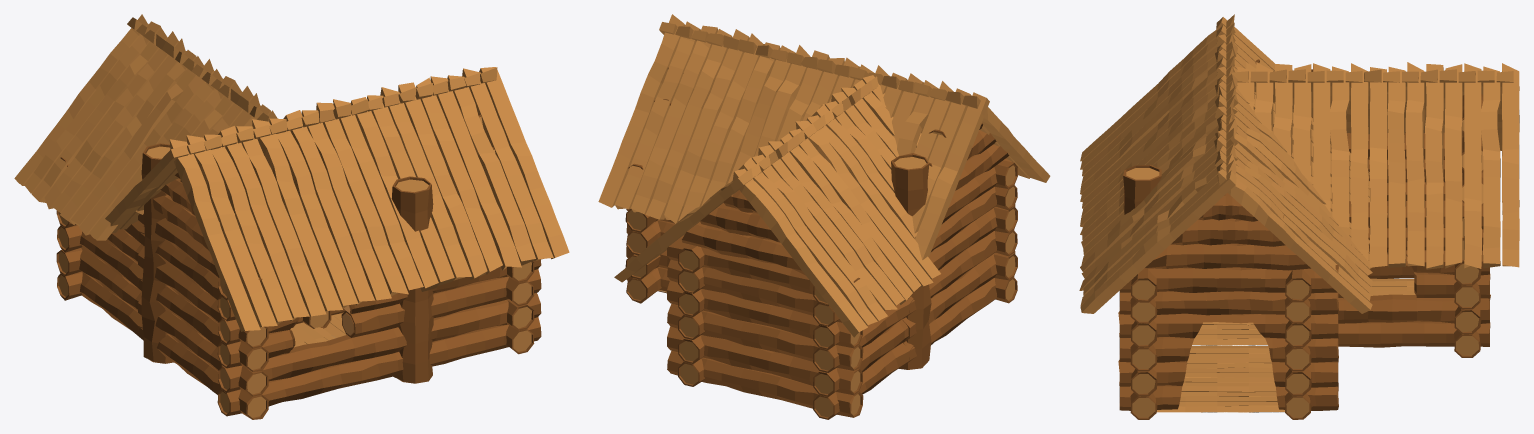
File: House1.fbx
3 renders of one model, left to right at view 1: azimuth 30°, elevation 25°; view 2: azimuth 150°, elevation 25°; view 3: azimuth 270°, elevation 25°, orthographic. The views are drawn at different scales.
Visible parts, largest first — view 1: Cube.001, Cube.002, Cylinder.037, Cylinder.019, Cylinder.018, Cylinder.030, Cylinder.020, Cylinder.013, Cylinder.014, Cylinder.012, Cylinder.031, Cylinder.033 (+19 smaller); view 2: Cube.002, Cube.001, Cylinder.052, Cylinder.051, Cylinder.050, Cylinder.030, Cylinder.053, Cylinder.054, Cylinder.056, Cylinder.055, Cylinder.013, Cylinder.006 (+27 smaller); view 3: Cube.001, Cube.002, Plane.001, Cylinder.004, Cylinder.005, Cylinder.024, Cylinder.003, Cylinder.038, Cylinder.039, Cylinder.002, Cylinder.025, Cylinder.001 (+24 smaller).
Boxes of the visible parts, <box> form: Cube.001: <box>127,17,569,331</box>; Cube.002: <box>14,14,497,240</box>; Cylinder.037: <box>391,176,433,383</box>; Cylinder.019: <box>218,327,406,392</box>; Cylinder.018: <box>217,352,403,416</box>; Cylinder.030: <box>141,143,173,363</box>; Cylinder.020: <box>217,303,404,368</box>; Cylinder.013: <box>138,298,268,396</box>; Cylinder.014: <box>138,273,268,371</box>; Cylinder.012: <box>138,327,268,419</box>; Cylinder.031: <box>429,317,541,366</box>; Cylinder.033: <box>431,269,541,317</box>; Cube.002: <box>598,14,989,337</box>; Cube.001: <box>614,22,1050,282</box>; Cylinder.052: <box>667,304,863,370</box>; Cylinder.051: <box>667,326,862,395</box>; Cylinder.050: <box>667,351,863,417</box>; Cylinder.030: <box>891,153,931,369</box>; Cylinder.053: <box>667,280,862,348</box>; Cylinder.054: <box>667,259,841,322</box>; Cylinder.056: <box>682,222,805,275</box>; Cylinder.055: <box>667,235,859,294</box>; Cylinder.013: <box>902,251,1015,342</box>; Cylinder.006: <box>813,343,913,419</box>; Cube.001: <box>1079,14,1519,313</box>; Cube.002: <box>1214,17,1513,313</box>; Plane.001: <box>1157,278,1415,412</box>; Cylinder.004: <box>1119,291,1338,315</box>; Cylinder.005: <box>1119,264,1338,293</box>; Cylinder.024: <box>1145,243,1310,270</box>; Cylinder.003: <box>1118,311,1338,339</box>; Cylinder.038: <box>1338,321,1490,347</box>; Cylinder.039: <box>1338,294,1490,323</box>; Cylinder.002: <box>1119,333,1338,362</box>; Cylinder.025: <box>1171,215,1285,246</box>; Cylinder.001: <box>1118,360,1338,387</box>.
Bounding box in the file's own units: 2842 × 1991 × 3107.
